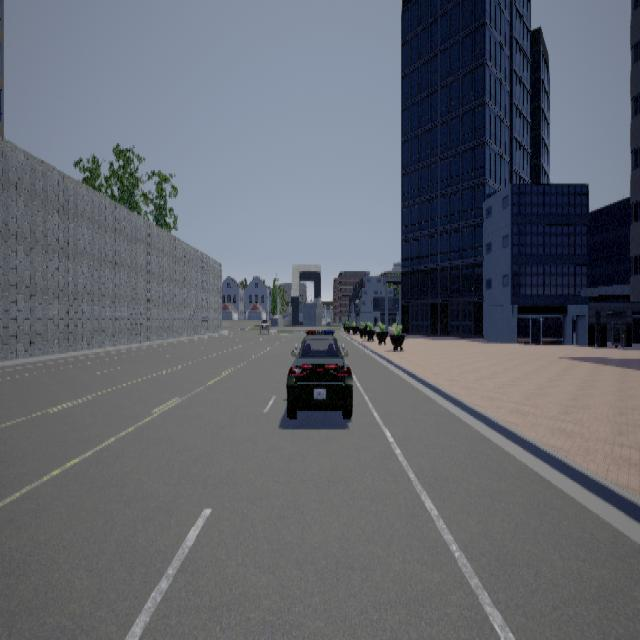vehicle: (285, 328, 352, 418)
